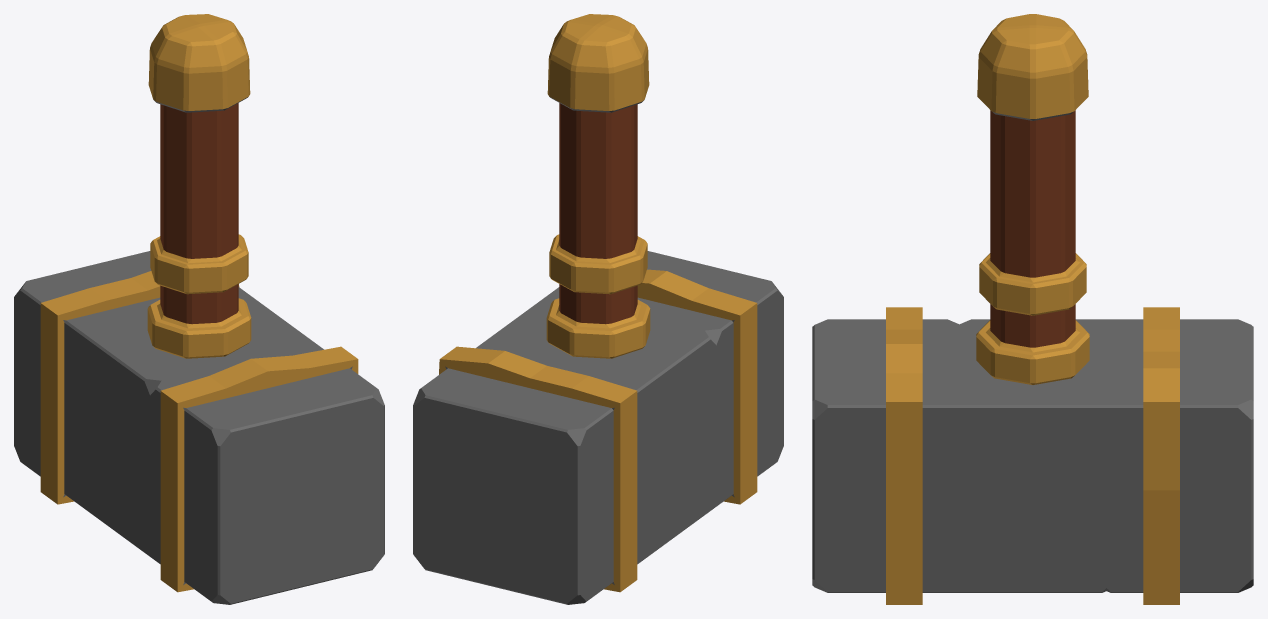
File: Repair Hammer.fbx
The picture shows the model from 3 angles, left to right: view 1: azimuth 30°, elevation 25°; view 2: azimuth 150°, elevation 25°; view 3: azimuth 270°, elevation 25°; orthographic projection. The views are drawn at different scales.
Visible parts, largest first — view 1: Cube; view 2: Cube; view 3: Cube.
Boxes of the visible parts, bbox=[...] form: Cube: bbox=[14, 14, 384, 604]; Cube: bbox=[413, 14, 783, 604]; Cube: bbox=[812, 14, 1253, 604].
Bounding box in the file's own units: 221 × 568 × 426.
